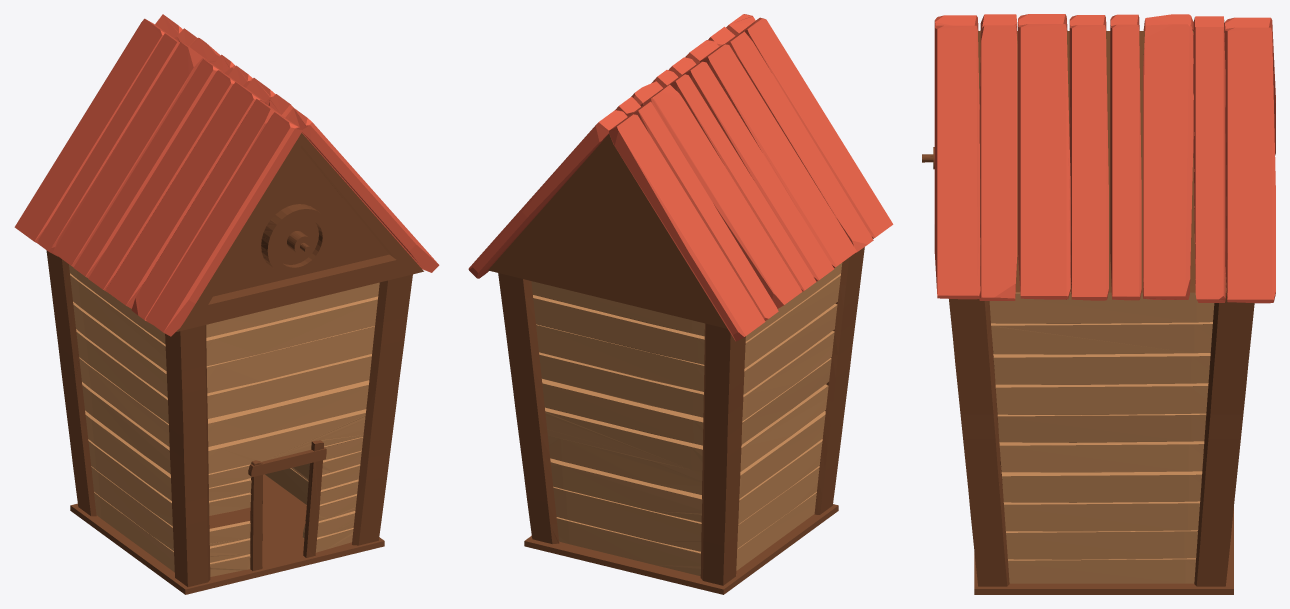
File: Windmill.gltf
3 views of the same model, side by side, from view 1: azimuth 30°, elevation 25°; view 2: azimuth 150°, elevation 25°; view 3: azimuth 270°, elevation 25° (orthographic). The views are drawn at different scales.
Size of the model in its own units: 2.78 by 4.43 by 2.72.
